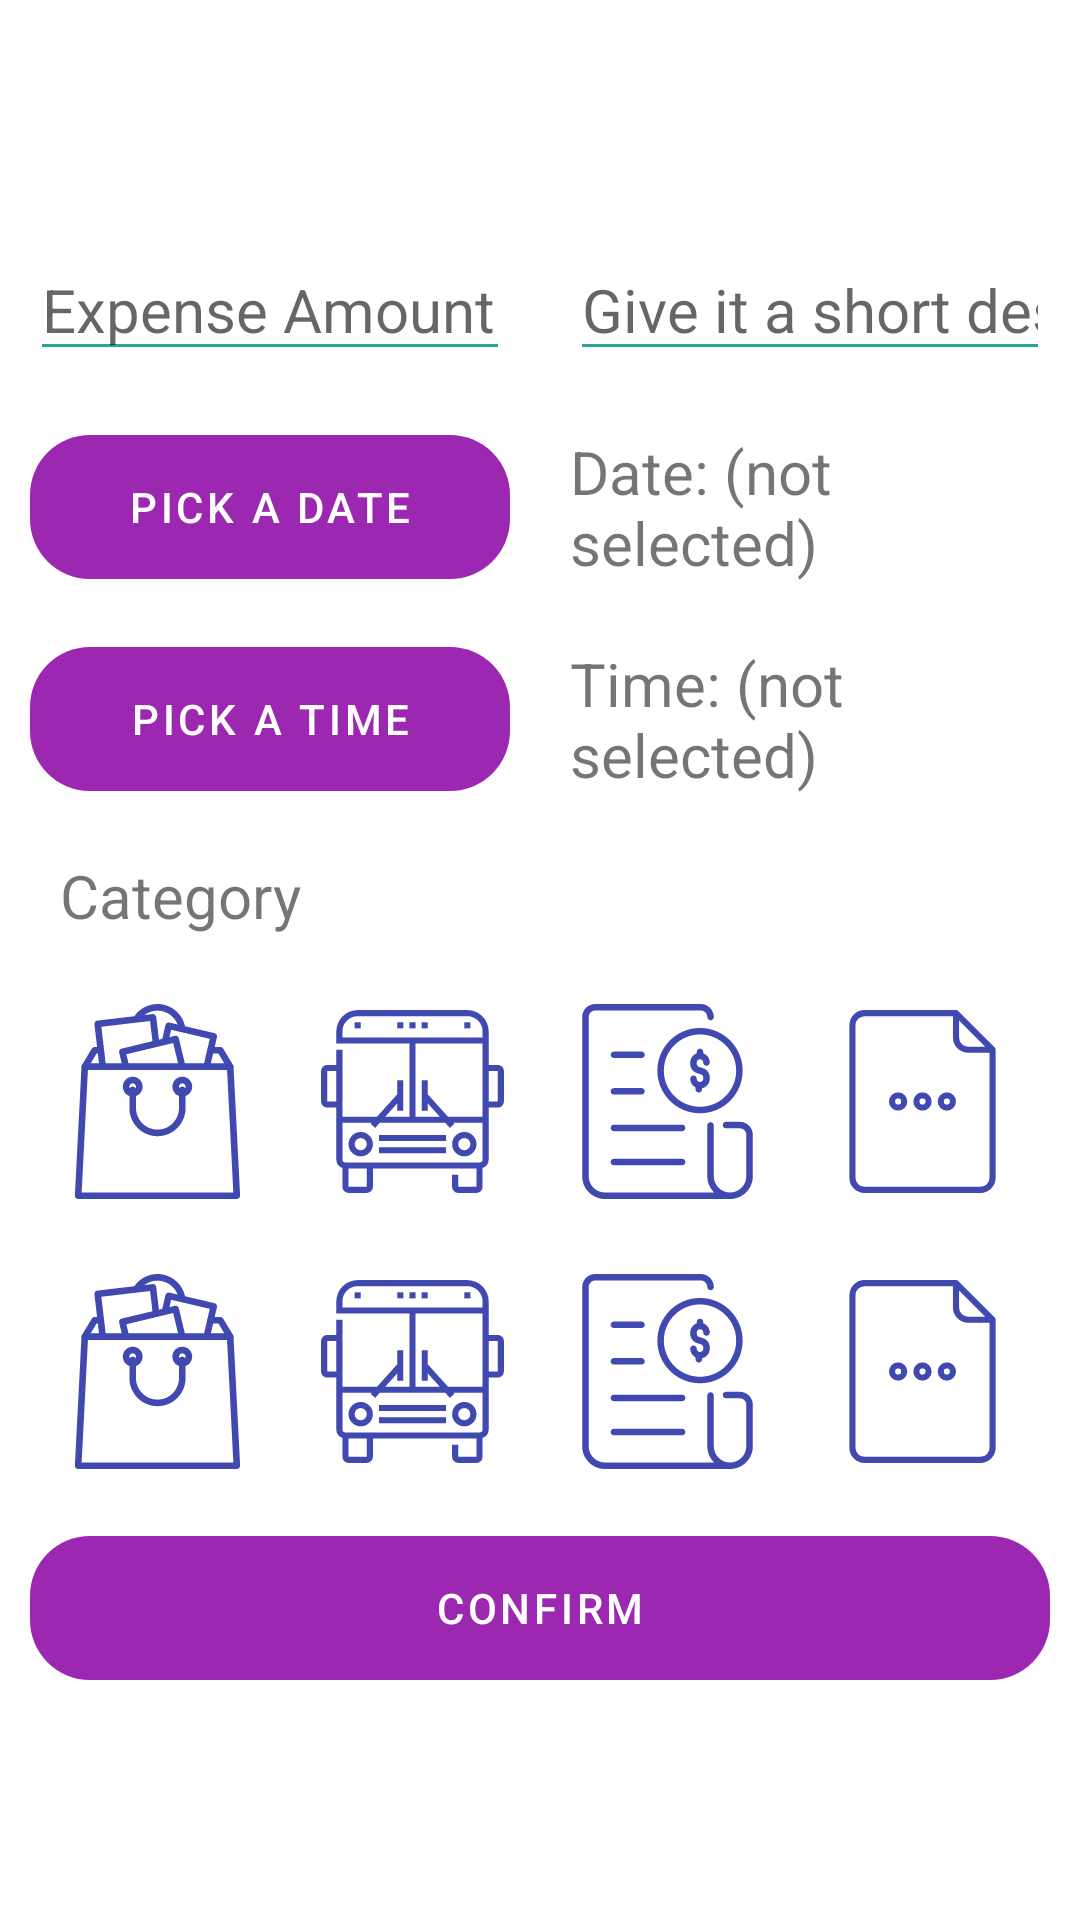

Icons on this 1080w x 1920h Android screen, each with its box as BBox(x1, y1, x2, y2):
bill: BBox(582, 1004, 753, 1199), BBox(582, 1274, 753, 1469)
others: BBox(849, 1010, 996, 1193), BBox(849, 1280, 996, 1463)
shopping bag: BBox(75, 1004, 240, 1199), BBox(75, 1274, 240, 1469)
transport: BBox(321, 1010, 504, 1193), BBox(321, 1280, 504, 1463)
